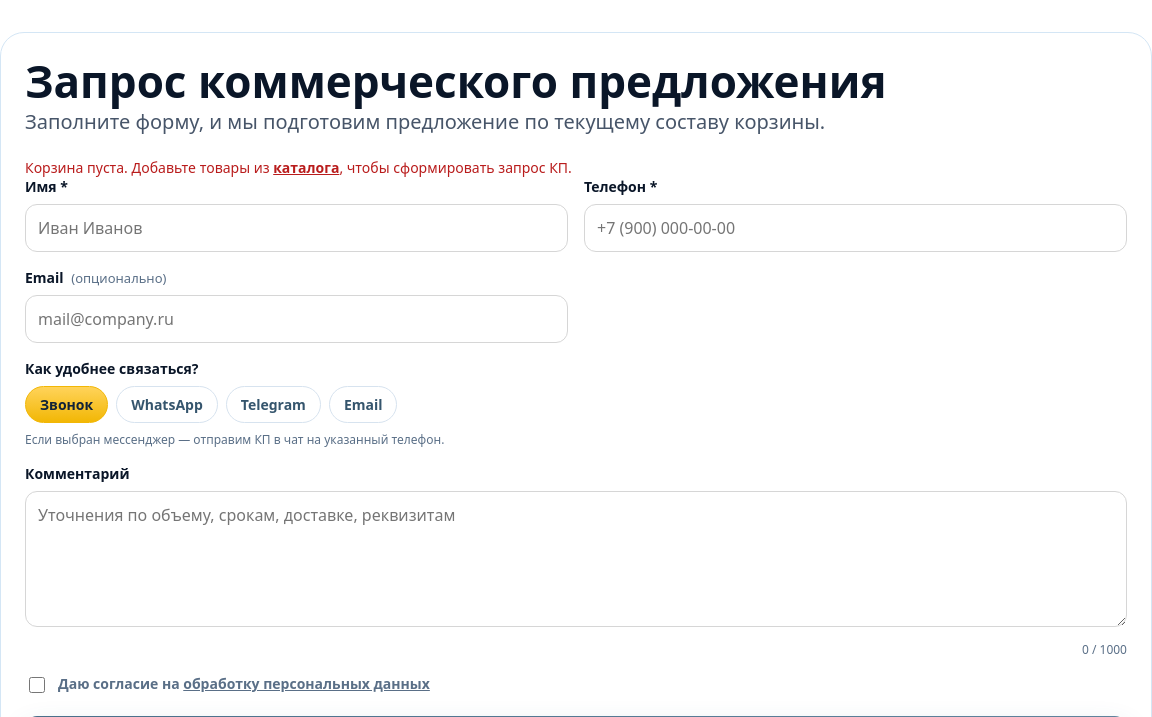
QuoteForm render flow › блокирует отправку при пустой корзине и не вызывает API
Type "Иван Петров" into the field labelled "Имя *" at (296, 228), box top-left (25, 204), bottom-right (568, 252)
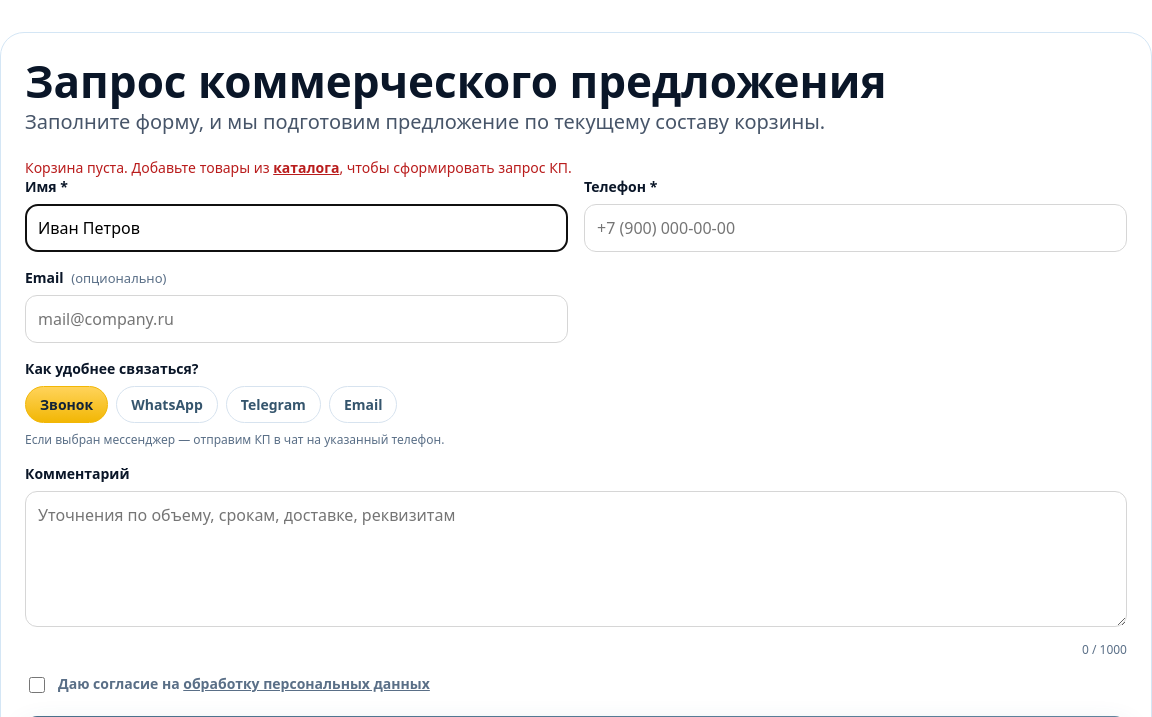
Type "+7 900 123-45-67" into the field labelled "Телефон *" at (856, 228), box top-left (584, 204), bottom-right (1127, 252)
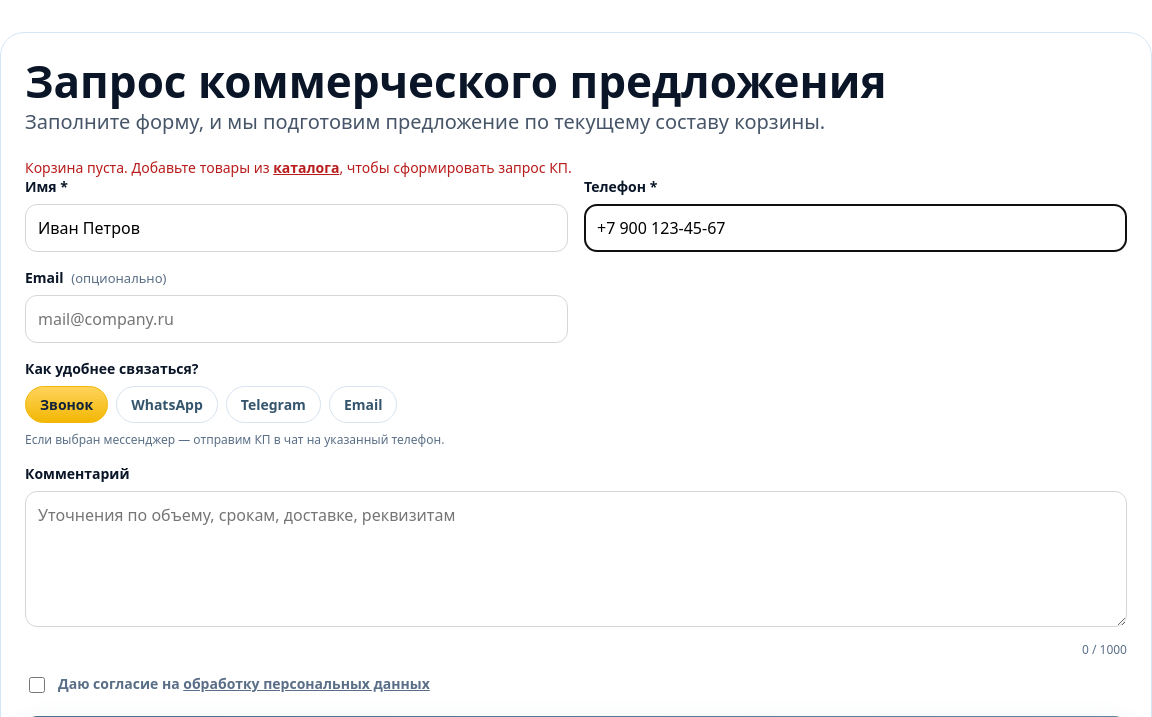
Click the checkbox labelled "Даю согласие на обработку персональных данных" at (37, 685), box top-left (29, 677), bottom-right (45, 693)
(page scrolled)
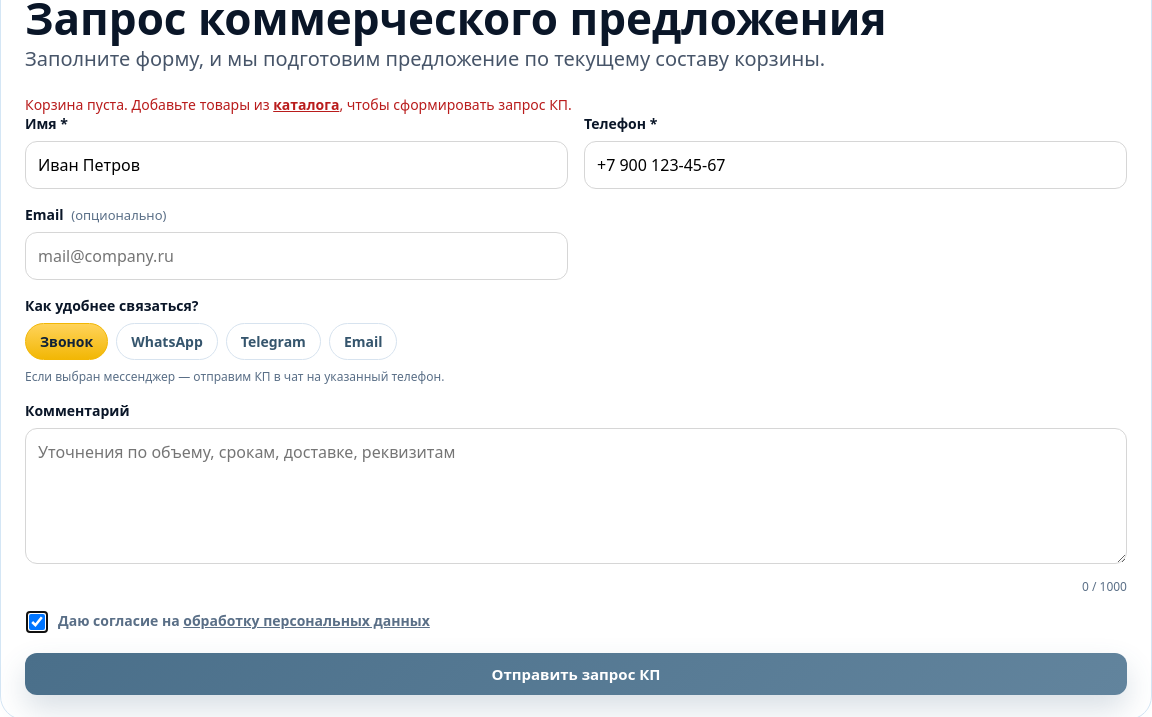
Click the button "Отправить запрос КП" at (576, 674), box top-left (25, 653), bottom-right (1127, 695)
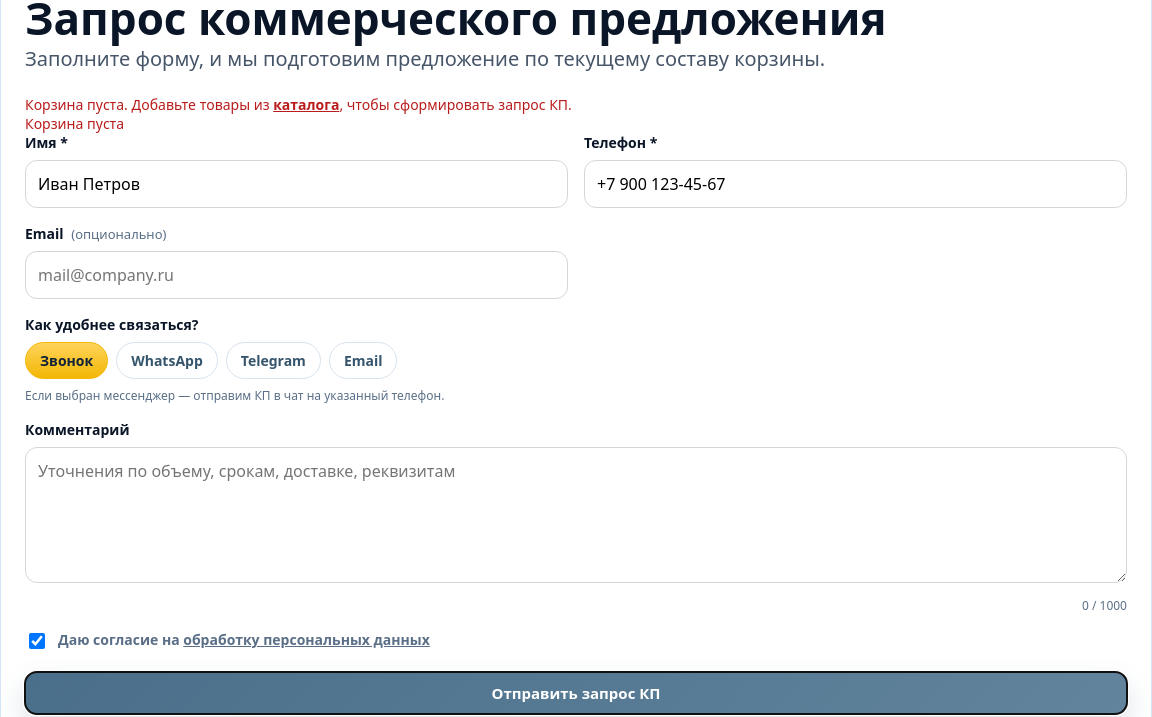
Expected: the text "Корзина пуста" is shown, top-left (25, 114), bottom-right (124, 133)
